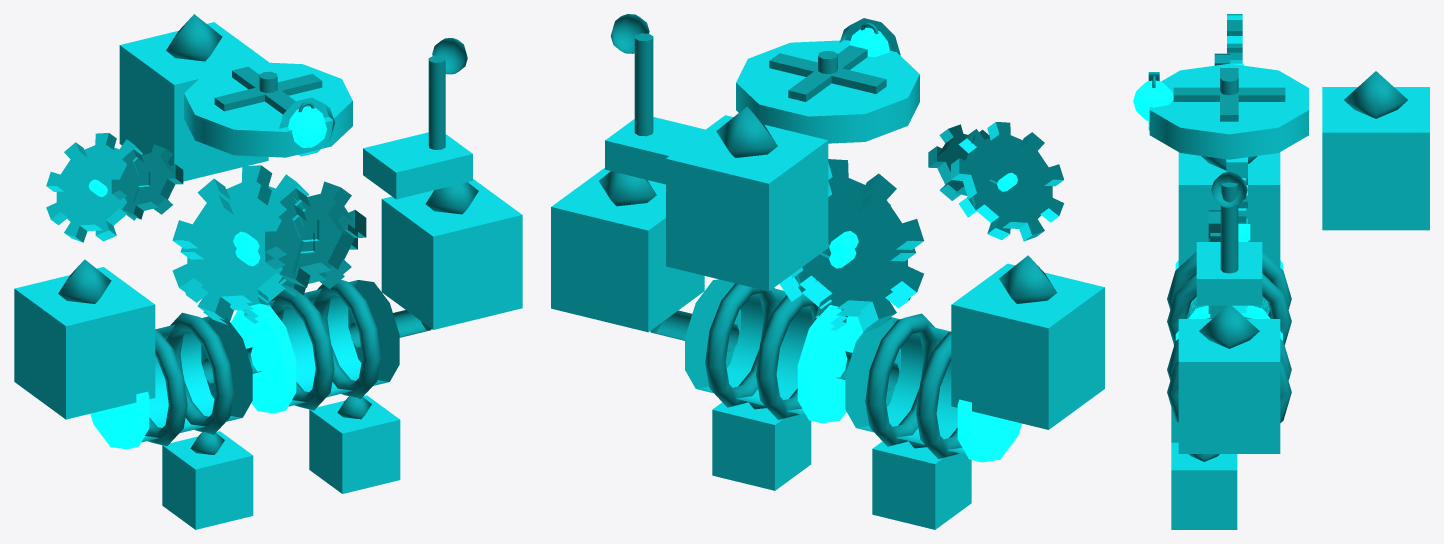
Rendered from golem_060.glb.
3 views of the same model, side by side, from view 1: azimuth 30°, elevation 25°; view 2: azimuth 150°, elevation 25°; view 3: azimuth 270°, elevation 25° (orthographic). The views are drawn at different scales.
Visible parts, largest first — view 1: Body, Detail, Glow; view 2: Body, Detail, Glow; view 3: Body, Detail, Glow.
Part boxes in pixels (x1=…): Body: x1=14, y1=22, x2=522, y2=529; Detail: x1=58, y1=14, x2=478, y2=454; Glow: x1=88, y1=106, x2=326, y2=449; Body: x1=551, y1=18, x2=1104, y2=529; Detail: x1=599, y1=14, x2=1056, y2=459; Glow: x1=797, y1=28, x2=1021, y2=462; Body: x1=1148, y1=14, x2=1429, y2=529; Detail: x1=1152, y1=53, x2=1407, y2=461; Glow: x1=1133, y1=63, x2=1282, y2=340.
Bounding box in the file's own units: 1.58 × 1.37 × 0.8999.
